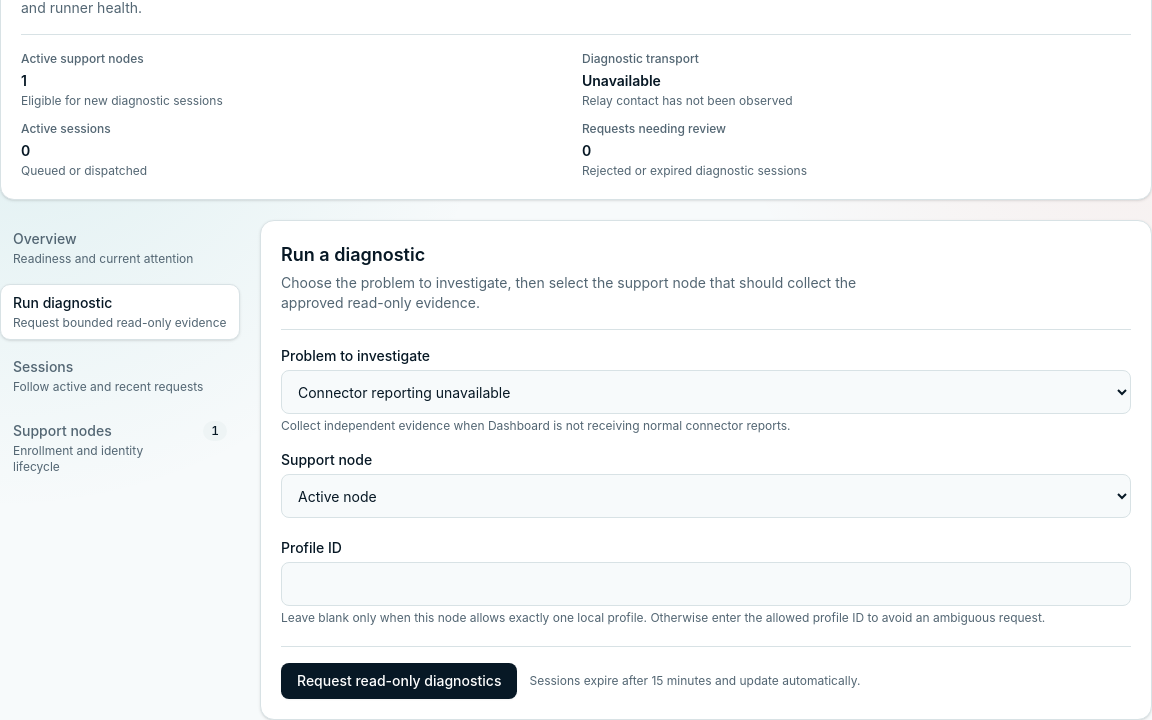
Scenario: SupportPage › reports a created session separately when the following refresh fails
(page scrolled)
What coordinates should you click on to do the following:
click the button "Request read-only diagnostics"
I would click on:
 (399, 681)
Its box is [281,663,518,699].
(page scrolled)
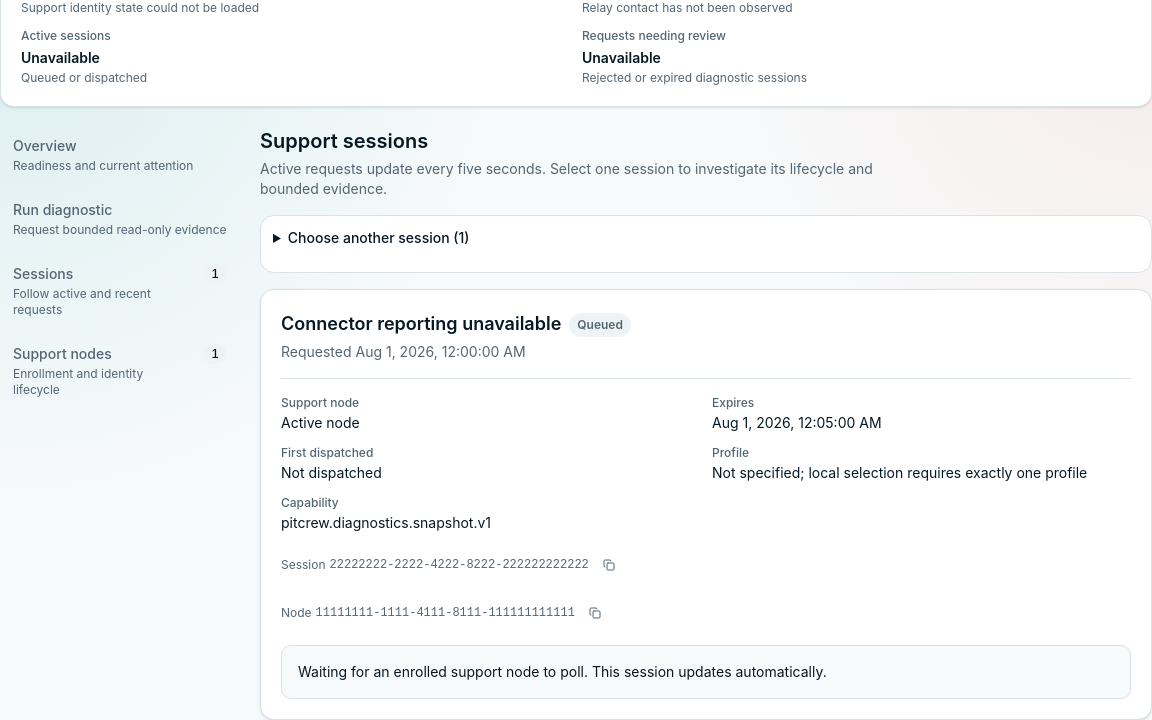
Check: the element "Connector reporting unavailable" is shown, box [260,289,1151,719]
